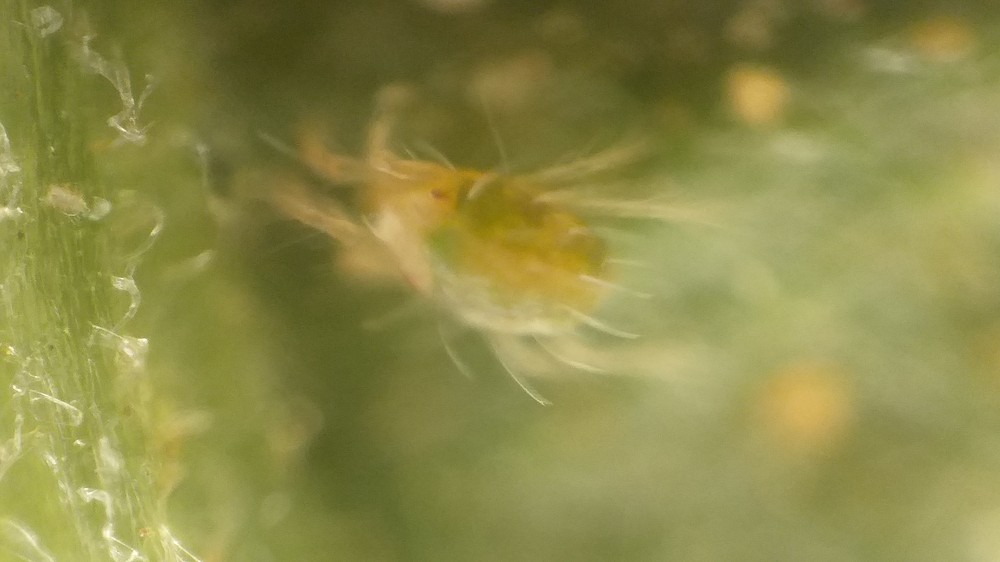Aracnido Rojo: (226, 73, 739, 430)
